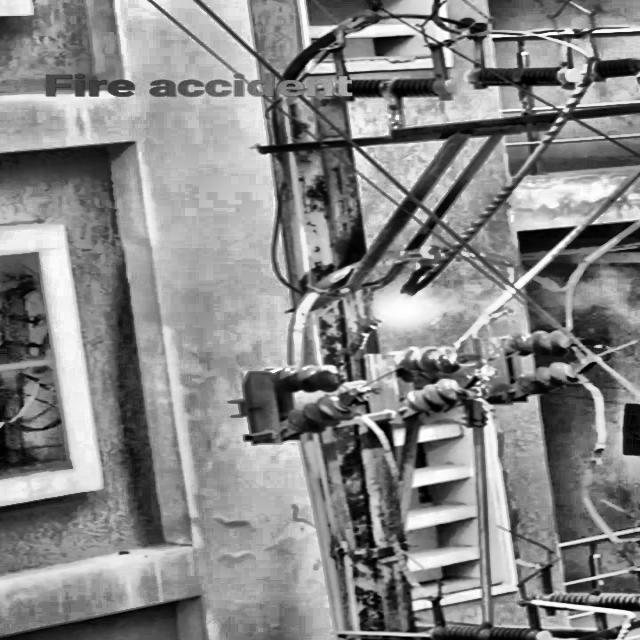Fire: (371, 282, 439, 330)
